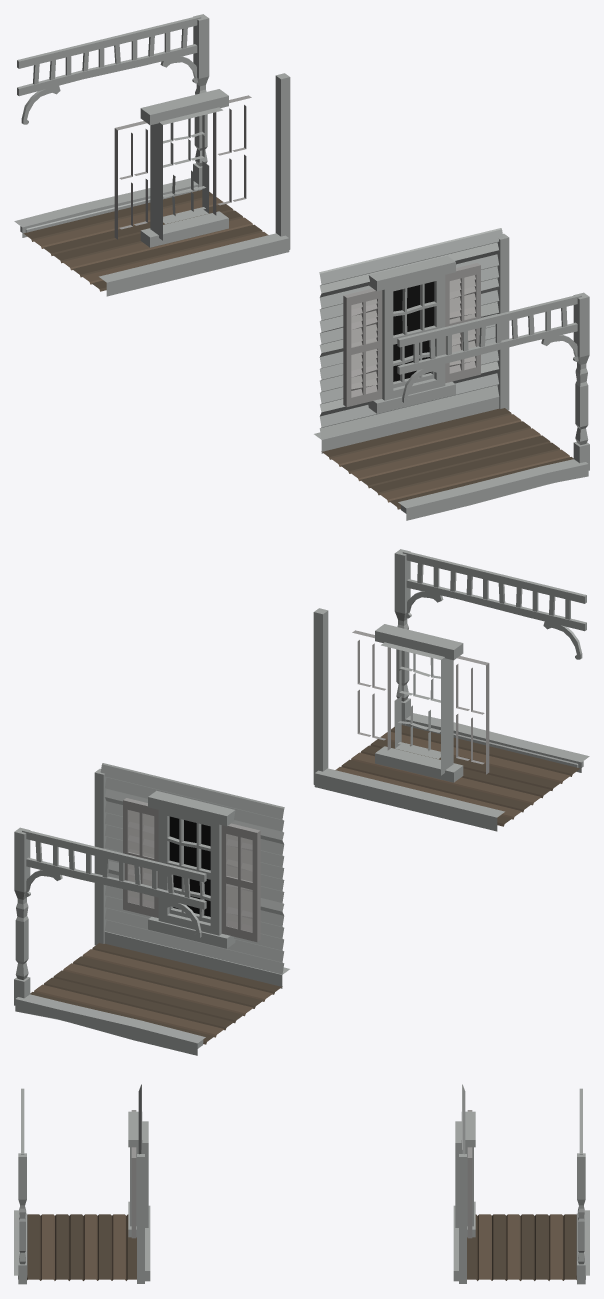
The model's file is SM_Bld_Mansion_Middle_01.glb.
3 renders of one model, top to bottom at view 1: azimuth 30°, elevation 25°; view 2: azimuth 150°, elevation 25°; view 3: azimuth 270°, elevation 25°, orthographic. The views are drawn at different scales.
Visible parts, largest first — view 1: SM_Bld_Mansion_Middle_01; view 2: SM_Bld_Mansion_Middle_01; view 3: SM_Bld_Mansion_Middle_01.
Part boxes in pixels (<box>): SM_Bld_Mansion_Middle_01: <box>14,14,589,520</box>; SM_Bld_Mansion_Middle_01: <box>14,549,589,1055</box>; SM_Bld_Mansion_Middle_01: <box>14,1084,589,1284</box>.
Size of the model in its own units: 0.0311 by 0.029 by 0.1118.
